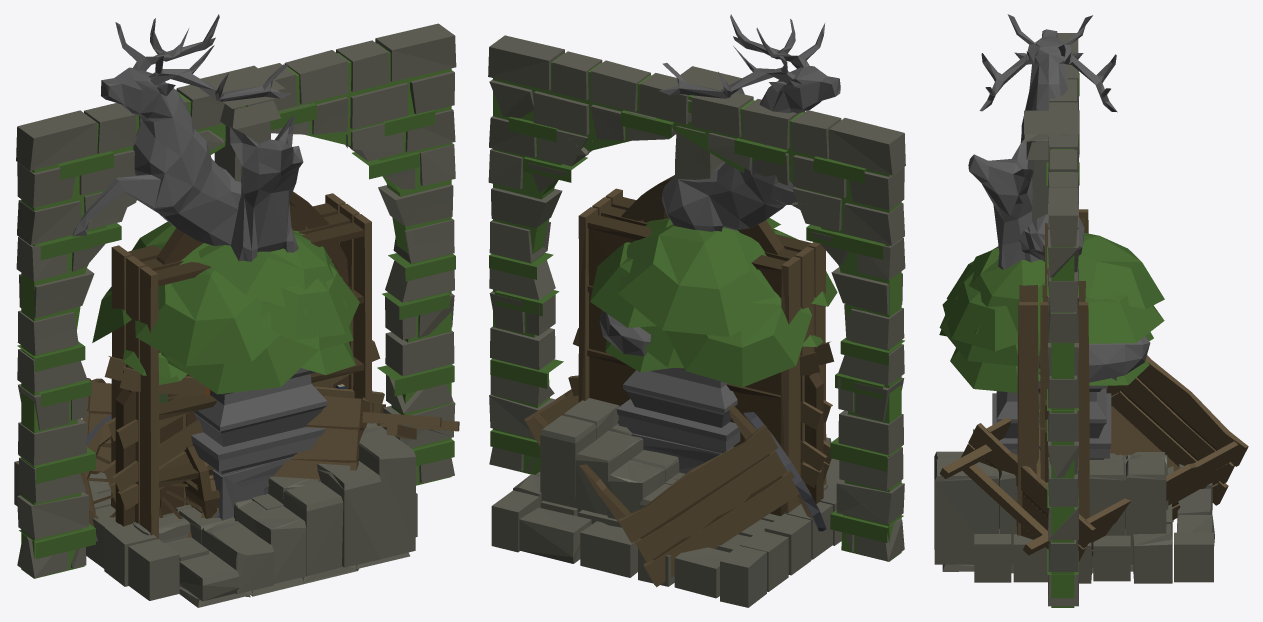
File: ruins.glb
3 renders of one model, left to right at view 1: azimuth 30°, elevation 25°; view 2: azimuth 150°, elevation 25°; view 3: azimuth 270°, elevation 25°, orthographic. The views are drawn at different scales.
Parts seen in each view (by area): view 1: body (×15), left (×2), right (×2), lid; view 2: body (×12), right, left; view 3: body (×11).
Part boxes in pixels (bbox=[...]): body (×15): bbox=[14, 14, 459, 607]; left (×2): bbox=[120, 228, 203, 526]; right (×2): bbox=[289, 191, 348, 389]; lid: bbox=[183, 445, 219, 501]; body (×12): bbox=[488, 14, 905, 607]; right: bbox=[621, 175, 674, 222]; left: bbox=[752, 220, 819, 382]; body (×11): bbox=[934, 14, 1248, 607].
Size of the model in its own units: 4 by 4.93 by 2.88.
